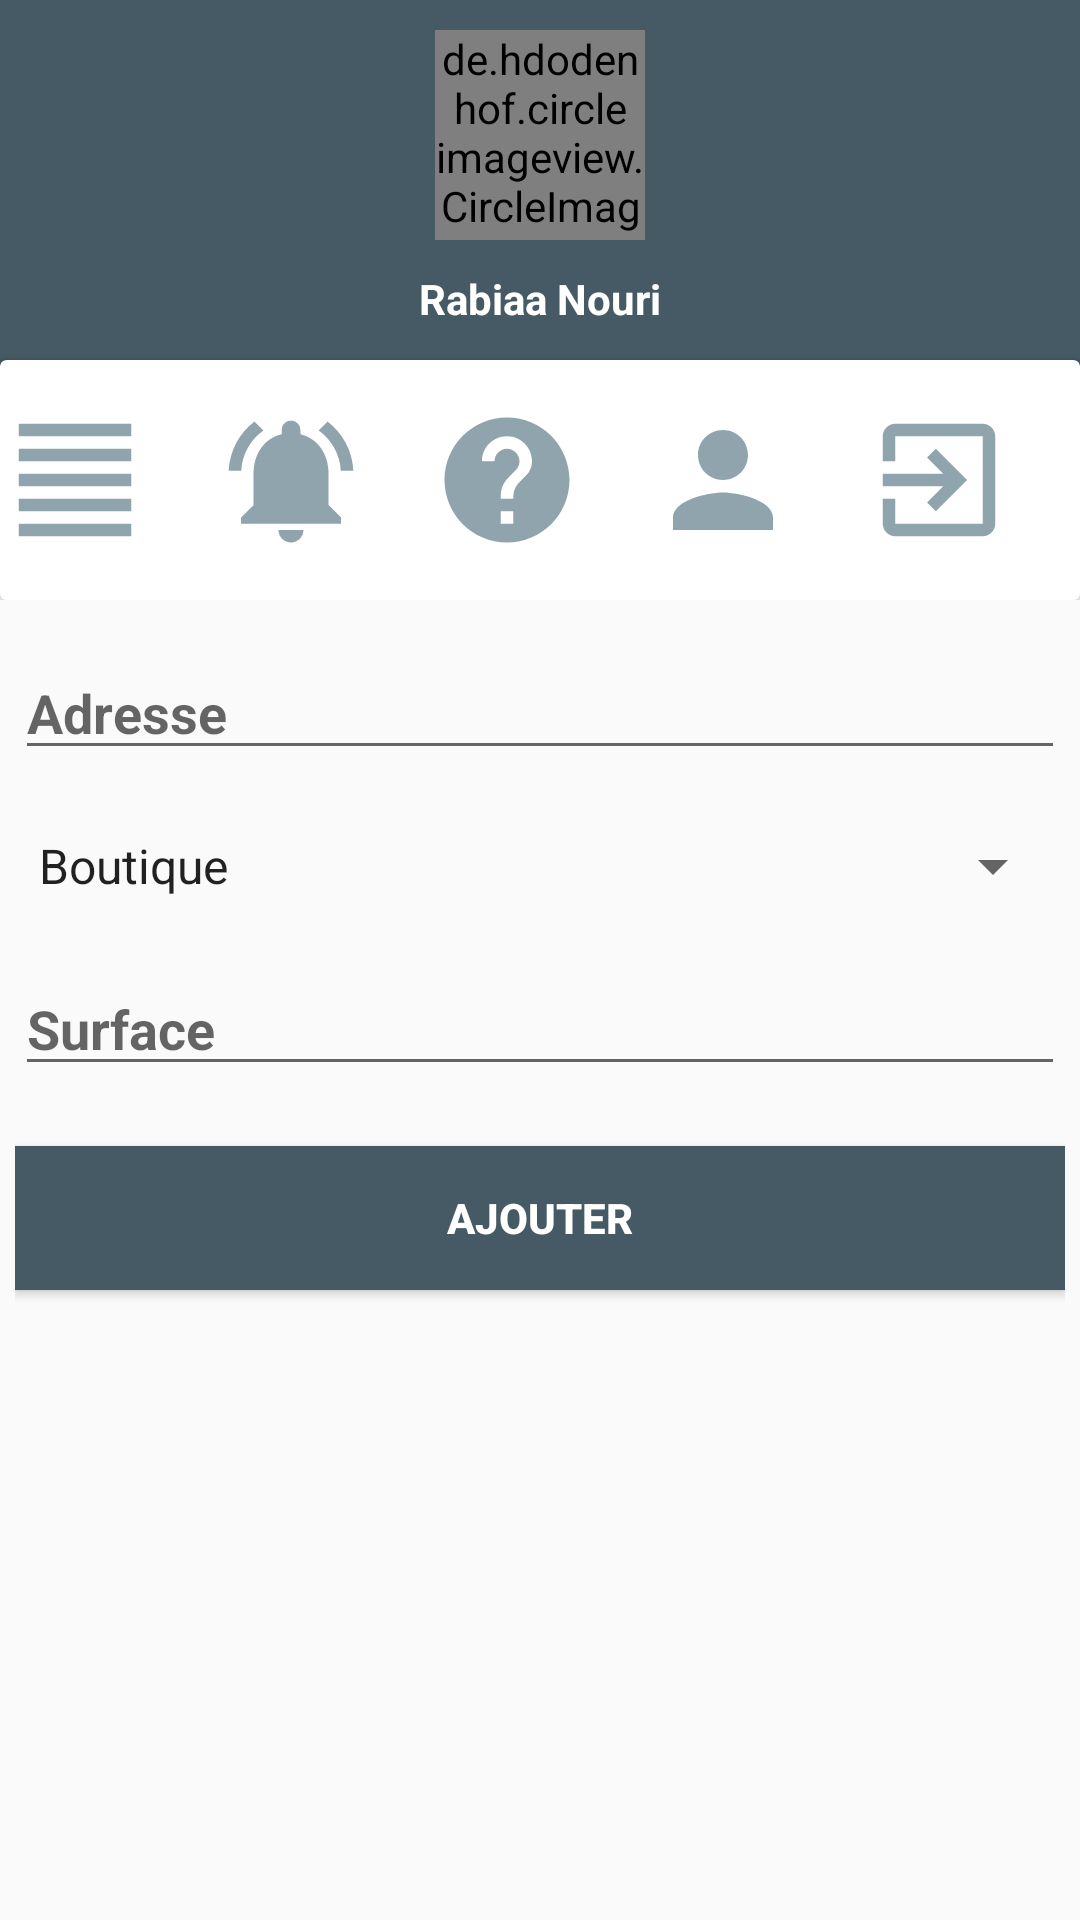

Icons on this 1080 × 1920 Android screen, each with its box as bbox(x1, y1, x2, y2):
exit: bbox(882, 423, 996, 537)
help: bbox(444, 417, 570, 543)
notifications: bbox(228, 420, 354, 543)
person: bbox(673, 430, 773, 530)
